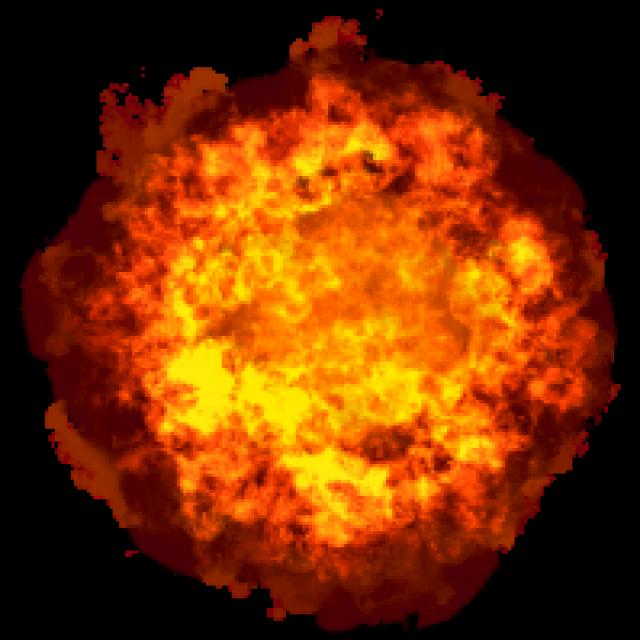fire: (35, 32, 617, 601)
